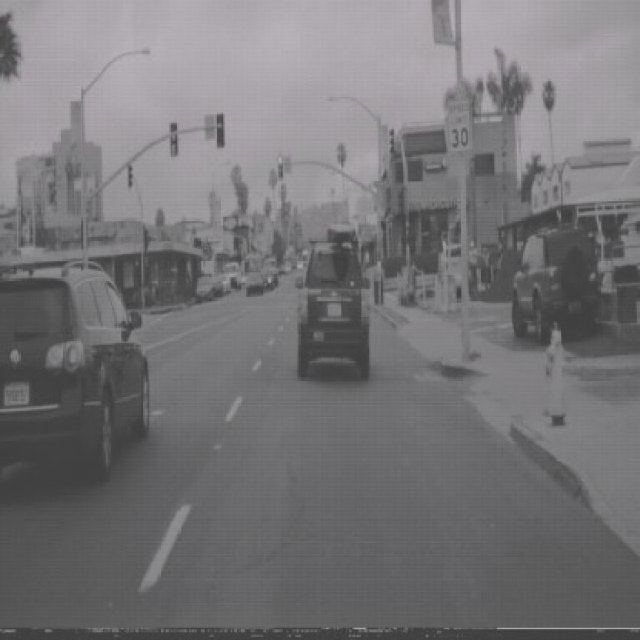speedLimit30: (449, 95, 474, 155)
